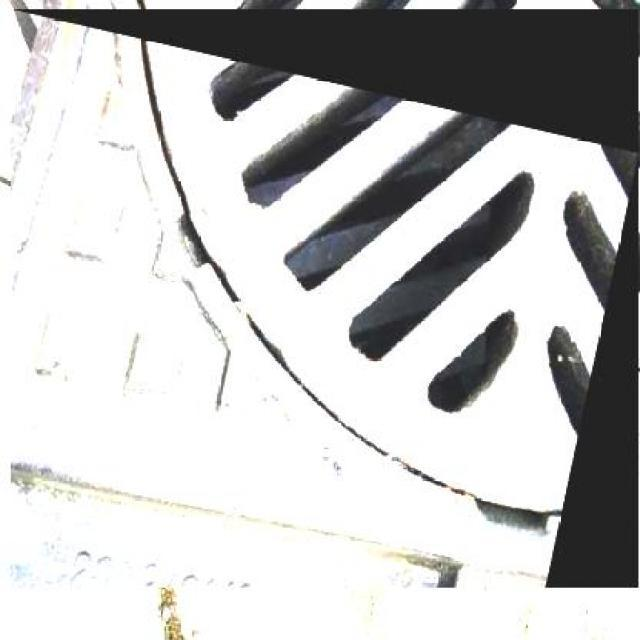Manhole: (11, 9, 638, 588)
